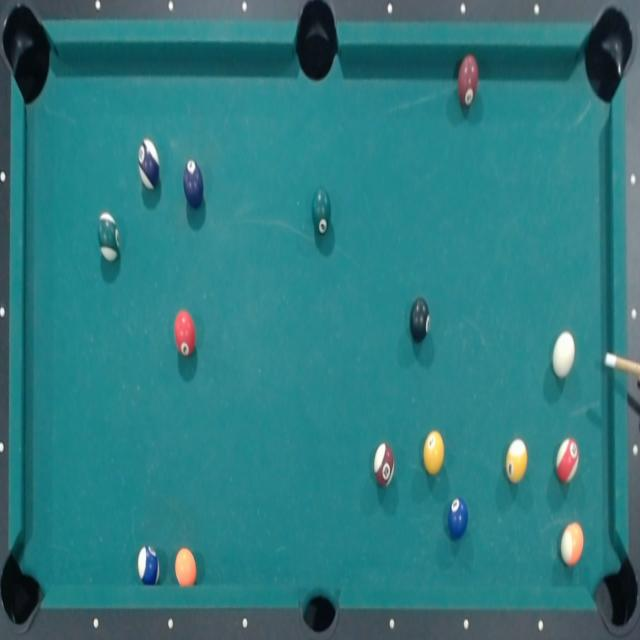black_8ball: (408, 294, 432, 341)
blue_solid: (447, 495, 470, 539)
blue_stripe: (136, 543, 160, 586)
cue_ball: (550, 330, 576, 380)
cue_body: (618, 352, 640, 381)
cue_tip: (603, 352, 618, 369)
green_solid: (310, 184, 332, 237)
green_stripe: (95, 210, 123, 265)
maroon_solid: (456, 54, 479, 108)
maroon_stripe: (372, 438, 396, 488)
orange_solid: (174, 546, 198, 586)
orange_stripe: (560, 519, 586, 570)
playr: (182, 159, 205, 210)
purple_solid: (137, 136, 161, 192)
purple_stripe: (172, 309, 198, 358)
red_solid: (556, 438, 580, 485)
red_stripe: (421, 427, 446, 480)
yellow_solid: (504, 436, 528, 487)
